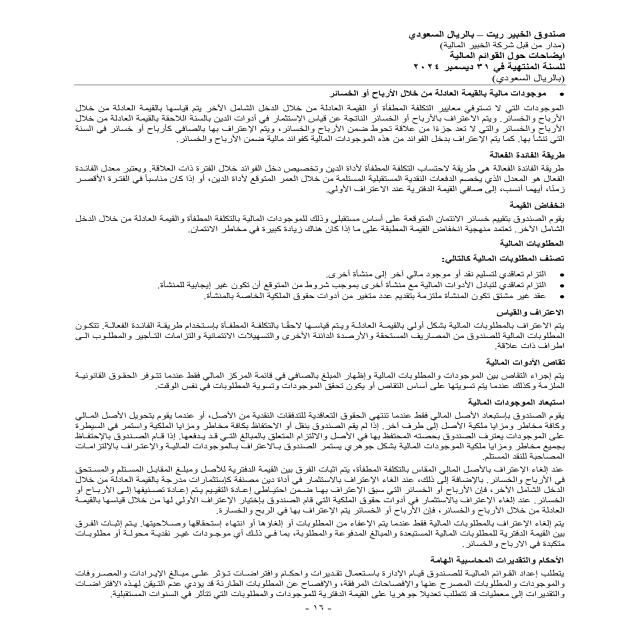notes: (433, 52, 573, 62)
text: (24, 99, 579, 606)
